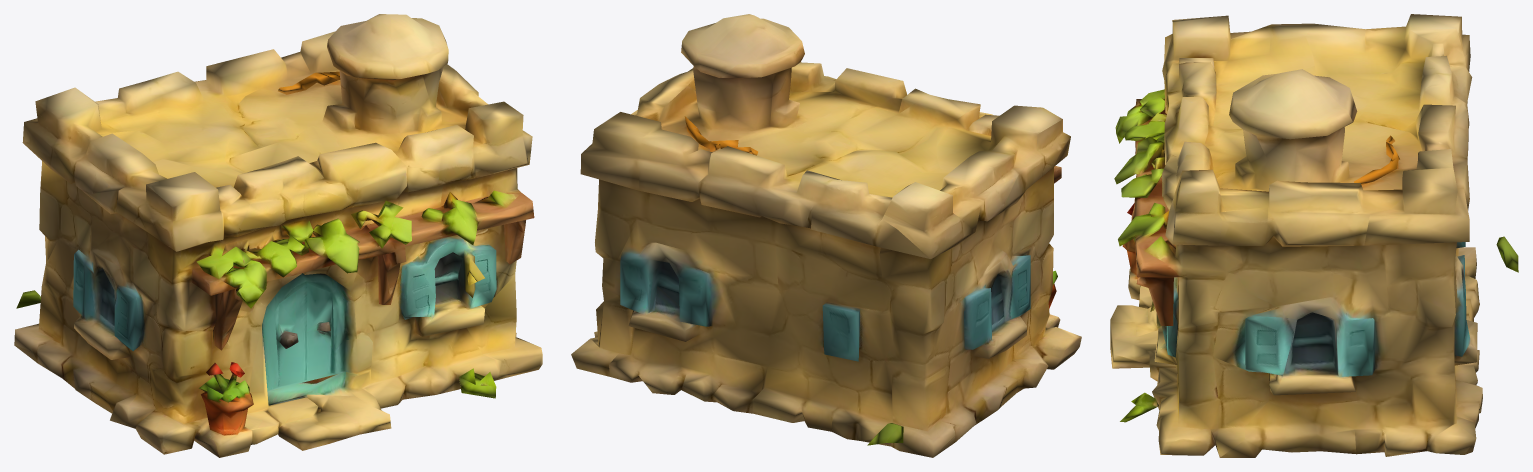
File: stone-house-lo.glb
3 renders of one model, left to right at view 1: azimuth 30°, elevation 25°; view 2: azimuth 150°, elevation 25°; view 3: azimuth 270°, elevation 25°, orthographic. The views are drawn at different scales.
Visible parts, largest first — view 1: tripo_node_8591c529-512b-489c-b4c4-5cdd801e4f64; view 2: tripo_node_8591c529-512b-489c-b4c4-5cdd801e4f64; view 3: tripo_node_8591c529-512b-489c-b4c4-5cdd801e4f64.
Boxes of the visible parts, x1,y1,x2,y2 form: tripo_node_8591c529-512b-489c-b4c4-5cdd801e4f64: [14, 14, 542, 457]; tripo_node_8591c529-512b-489c-b4c4-5cdd801e4f64: [571, 14, 1081, 457]; tripo_node_8591c529-512b-489c-b4c4-5cdd801e4f64: [1110, 14, 1518, 457].
Size of the model in its own units: 0.9995 by 0.8063 by 0.8801.
Materials: 1 (1 with a texture image).
